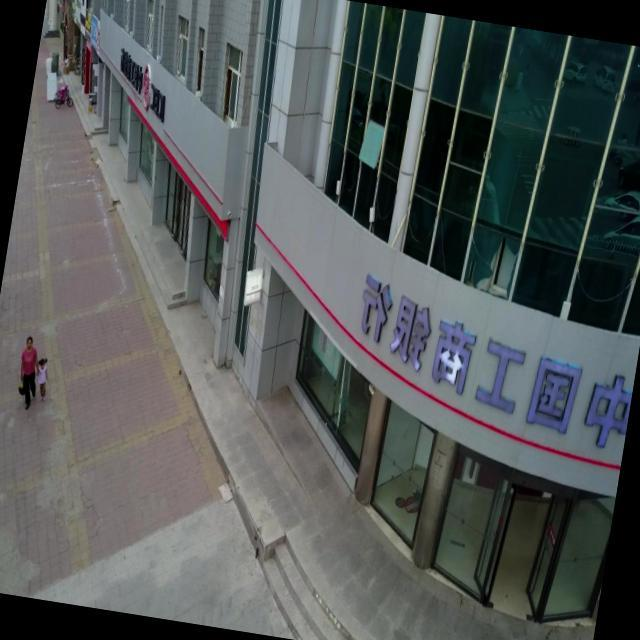person: (13, 336, 44, 411)
